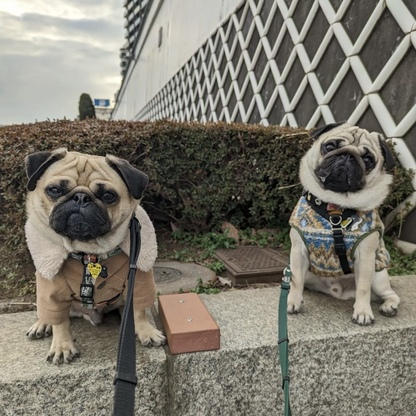Pug: (17, 144, 179, 371), (279, 118, 405, 330)
